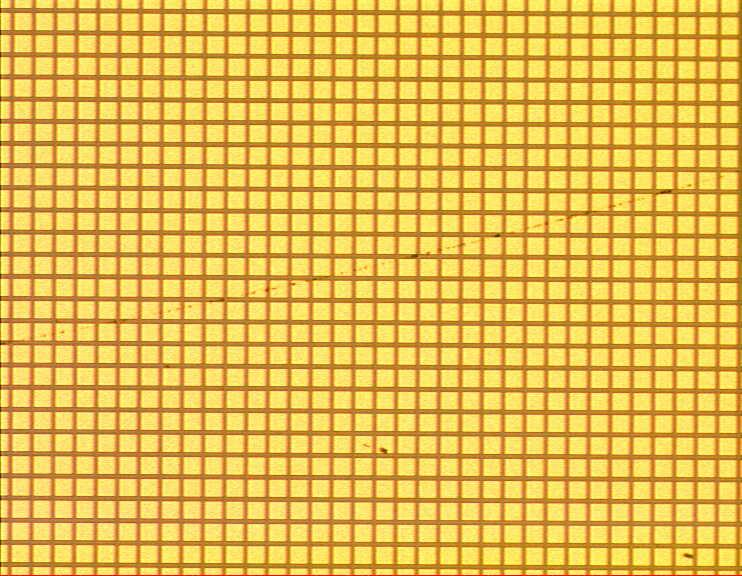SCRATCH: (1, 164, 742, 359)
